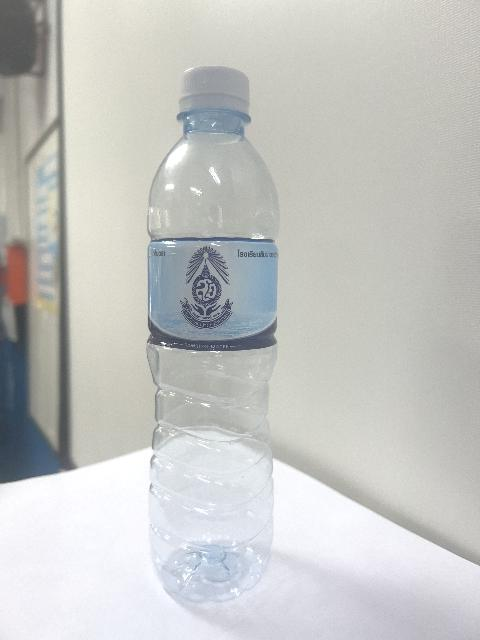bottle: (148, 67, 279, 601)
